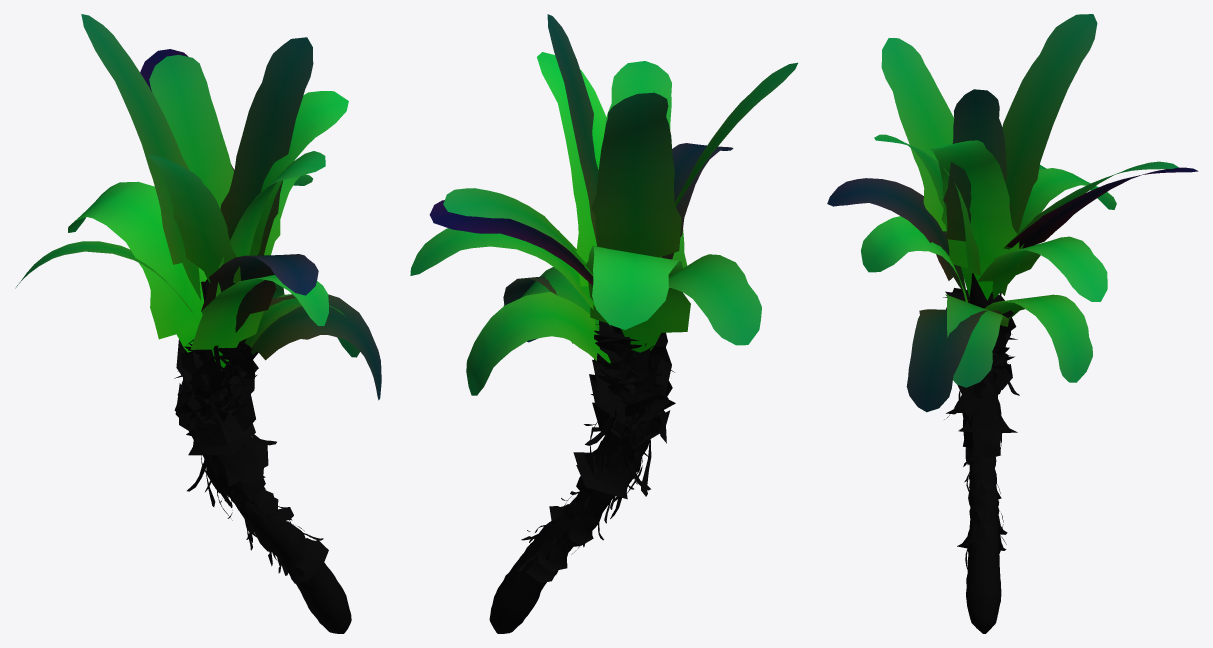
The model's file is Palm_6_Mesh.fbx.
3 views of the same model, side by side, from view 1: azimuth 30°, elevation 25°; view 2: azimuth 150°, elevation 25°; view 3: azimuth 270°, elevation 25° (orthographic). The views are drawn at different scales.
Parts seen in each view (by area): view 1: Palm_6_LOD0; view 2: Palm_6_LOD0; view 3: Palm_6_LOD0.
Boxes of the visible parts, bbox=[...] form: Palm_6_LOD0: bbox=[15, 14, 381, 633]; Palm_6_LOD0: bbox=[410, 14, 797, 633]; Palm_6_LOD0: bbox=[827, 14, 1198, 633].
Size of the model in its own units: 142 by 267 by 168.
